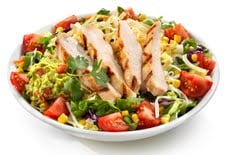curry: (67, 55, 89, 74)
sushi: (5, 9, 221, 144)
